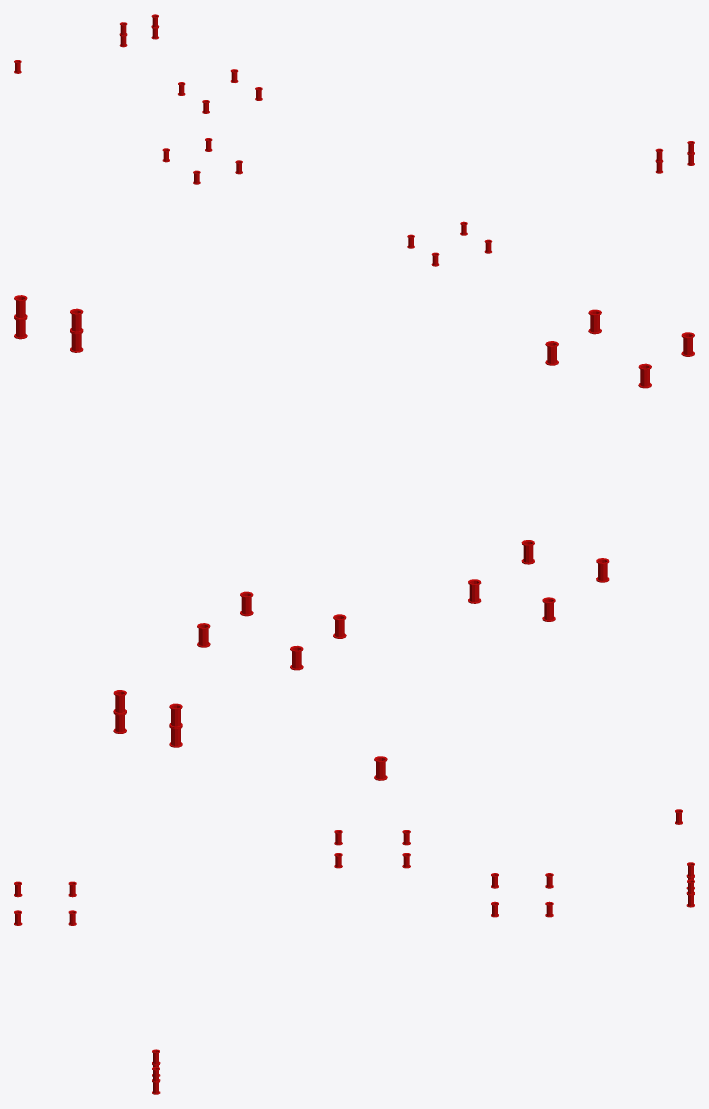
Rendered from object_41_lev2.glb.
The picture shows the model from 3 angles, top to bottom: view 1: azimuth 30°, elevation 25°; view 2: azimuth 150°, elevation 25°; view 3: azimuth 270°, elevation 25°; orthographic projection. The views are drawn at different scales.
Parts seen in each view (by area): view 1: object_41_lev2; view 2: object_41_lev2; view 3: object_41_lev2.
Boxes of the visible parts, bbox=[...] form: object_41_lev2: bbox=[14, 14, 694, 266]; object_41_lev2: bbox=[14, 295, 694, 780]; object_41_lev2: bbox=[14, 809, 694, 1094].
Bounding box in the file's own units: 58.26 × 5.65 × 69.1.
